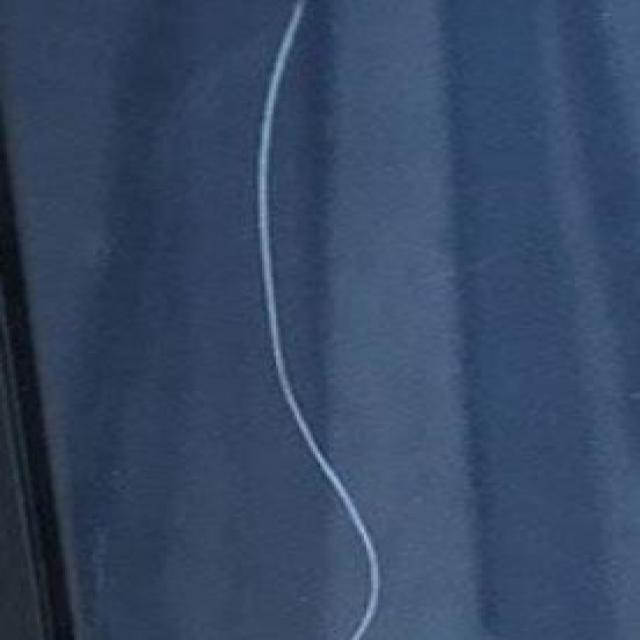scratch: (247, 6, 391, 637)
